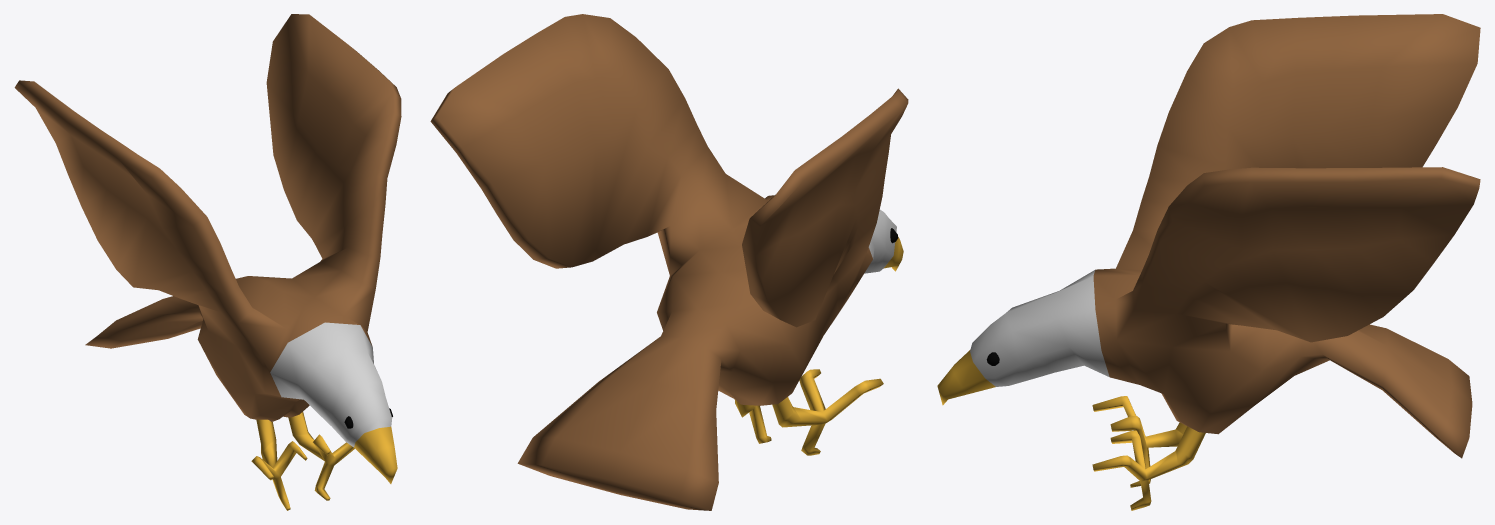
Rendered from eagle.fbx.
3 views of the same model, side by side, from view 1: azimuth 30°, elevation 25°; view 2: azimuth 150°, elevation 25°; view 3: azimuth 270°, elevation 25° (orthographic). The views are drawn at different scales.
Parts seen in each view (by area): view 1: Eagle; view 2: Eagle; view 3: Eagle.
Part boxes in pixels (x1,y1,x2,y2): Eagle: (14, 14, 401, 510); Eagle: (430, 14, 908, 510); Eagle: (937, 14, 1480, 510).
Size of the model in its own units: 616 by 726 by 874.
